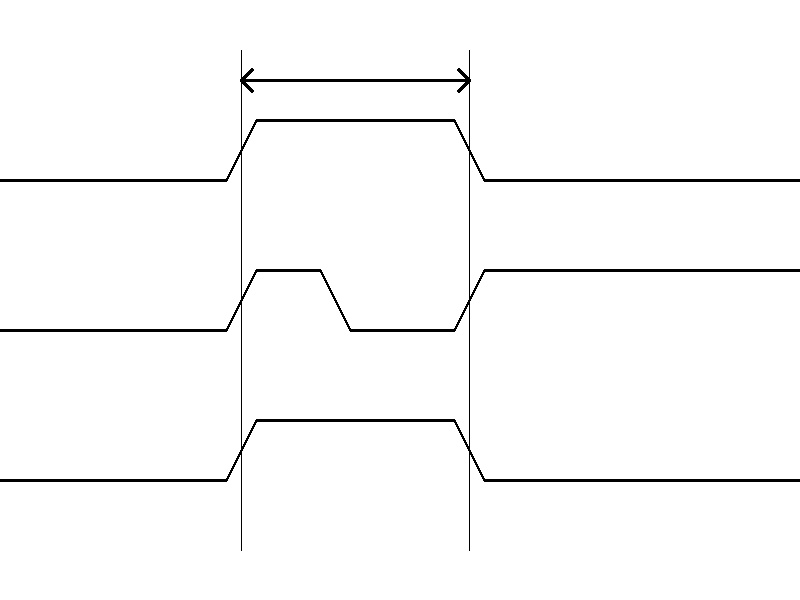double_arrow: (241, 65, 469, 95)
